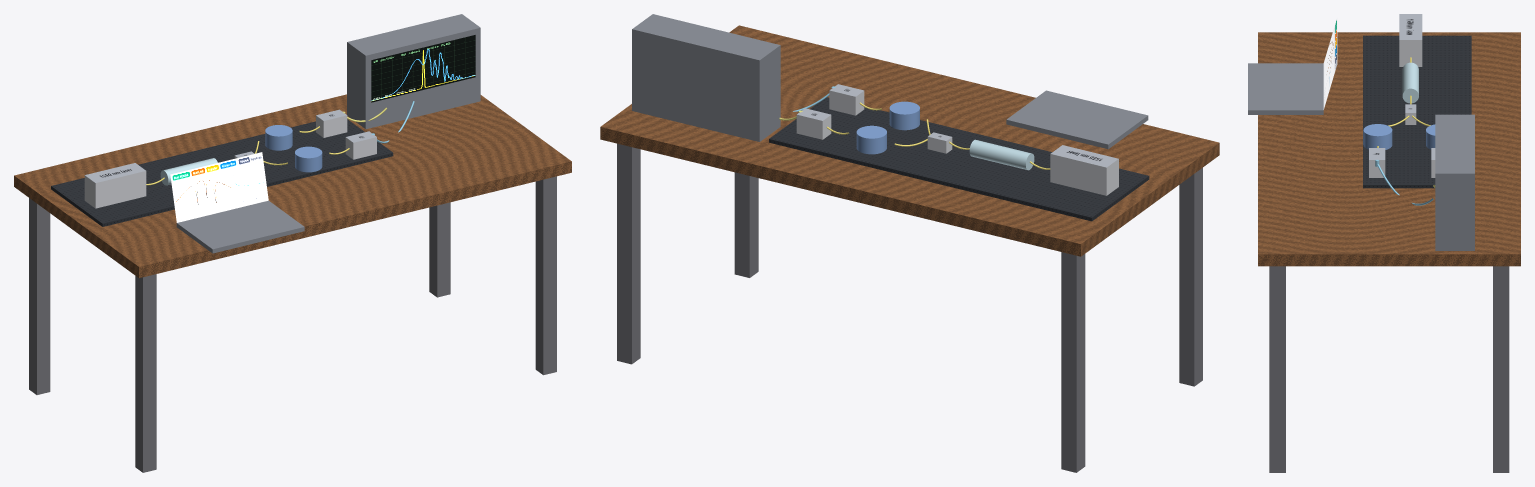
File: lab_desk.glb
3 renders of one model, left to right at view 1: azimuth 30°, elevation 25°; view 2: azimuth 150°, elevation 25°; view 3: azimuth 270°, elevation 25°, orthographic. The views are drawn at different scales.
Parts seen in each view (by area): view 1: desk_top (×2), leg (×4), breadboard (×2), scope_case (×2), laptop_screen, scope_screen, laptop_base (×2), laser, spool2, spool1, laser_top; view 2: desk_top (×2), leg (×4), scope_case (×2), breadboard (×2), laptop_base (×2), laser, gas_cell, spool2, spool1, laser_top, pd1, pd2; view 3: desk_top (×2), breadboard, leg (×2), scope_case (×2), laptop_base (×2), laptop_screen, spool2, gas_cell, laser_top, laser.
Boxes of the visible parts, x1,y1,x2,y2 form: desk_top (×2): [14, 94, 571, 278]; leg (×4): [29, 176, 556, 472]; breadboard (×2): [51, 119, 393, 226]; scope_case (×2): [347, 14, 480, 129]; laptop_screen: [170, 152, 268, 222]; scope_screen: [371, 35, 475, 102]; laptop_base (×2): [176, 200, 304, 253]; laser: [84, 171, 146, 208]; spool2: [295, 146, 322, 172]; spool1: [265, 125, 292, 150]; laser_top: [85, 163, 145, 182]; desk_top (×2): [600, 25, 1219, 256]; leg (×4): [617, 143, 1202, 472]; scope_case (×2): [632, 14, 780, 141]; breadboard (×2): [769, 97, 1149, 221]; laptop_base (×2): [1006, 90, 1148, 149]; laser: [1050, 154, 1118, 195]; gas_cell: [969, 139, 1034, 170]; spool2: [889, 101, 919, 130]; spool1: [856, 125, 886, 154]; laser_top: [1050, 145, 1118, 167]; pd1: [796, 114, 831, 139]; pd2: [829, 90, 864, 115]; desk_top (×2): [1258, 32, 1520, 266]; breadboard: [1363, 35, 1471, 184]; leg (×2): [1269, 266, 1509, 472]; scope_case (×2): [1435, 114, 1474, 250]; laptop_base (×2): [1248, 63, 1323, 114]; laptop_screen: [1323, 18, 1337, 109]; spool2: [1363, 124, 1392, 149]; gas_cell: [1402, 62, 1418, 103]; laser_top: [1399, 14, 1422, 39]; laser: [1399, 40, 1422, 66].
Bounding box in the file's own units: 1.6 × 1.01 × 0.83.
Materials: 16 (8 with a texture image).
